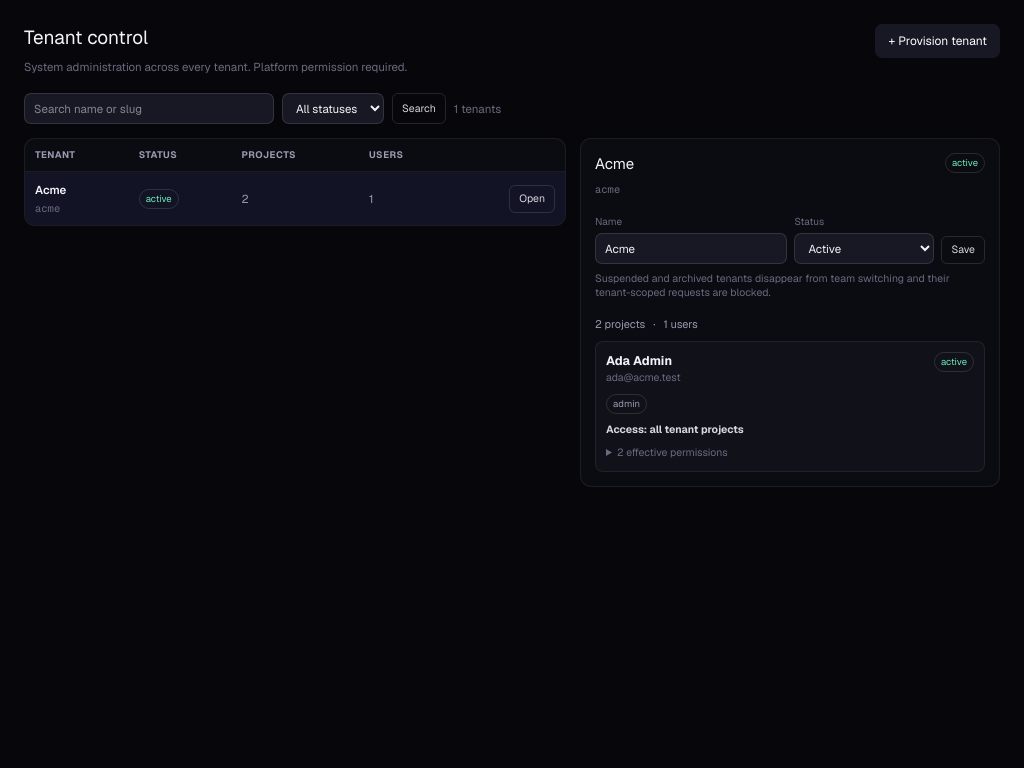
Test: TenantControlView › blocks submission when the tenant slug is already registered
This screenshot has width=1024, height=768.
Expected: the row with test id "tenant-control-row-acme" is shown, x1=25 y1=172 x2=565 y2=225
Click the button with test id "tenant-control-open-provision". click: (938, 41)
box: x1=876 y1=24 x2=1000 y2=58
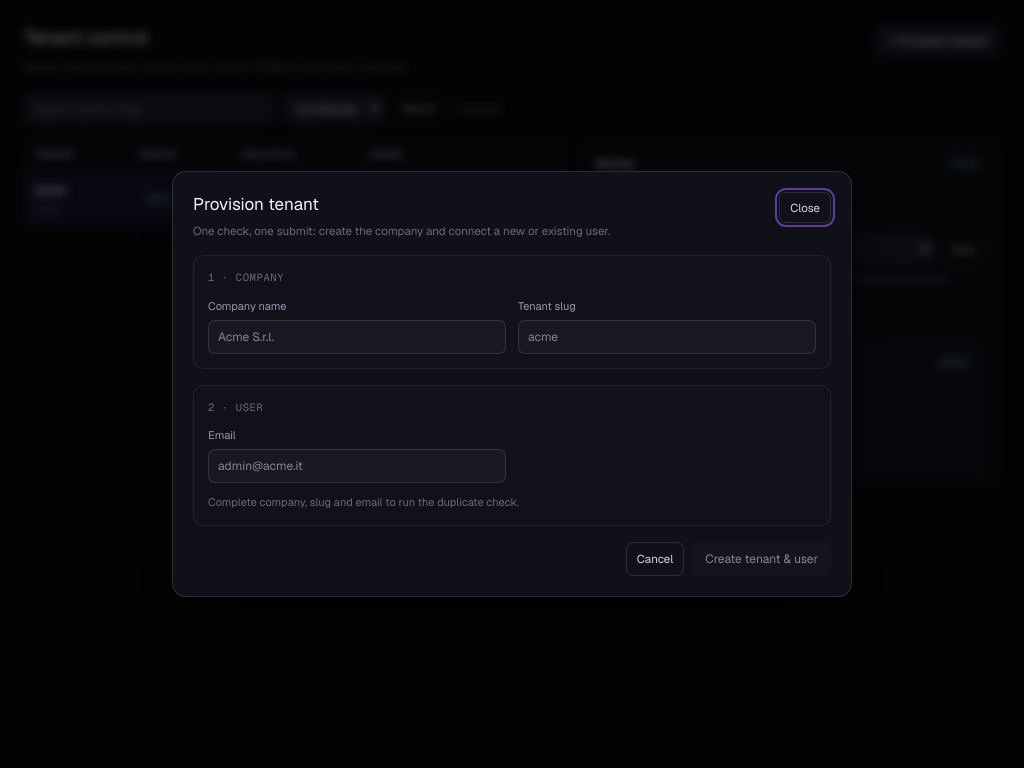
Type "Acme" into the field with test id "tenant-control-provision-tenant-name". click: (357, 337)
box: x1=208 y1=320 x2=506 y2=354
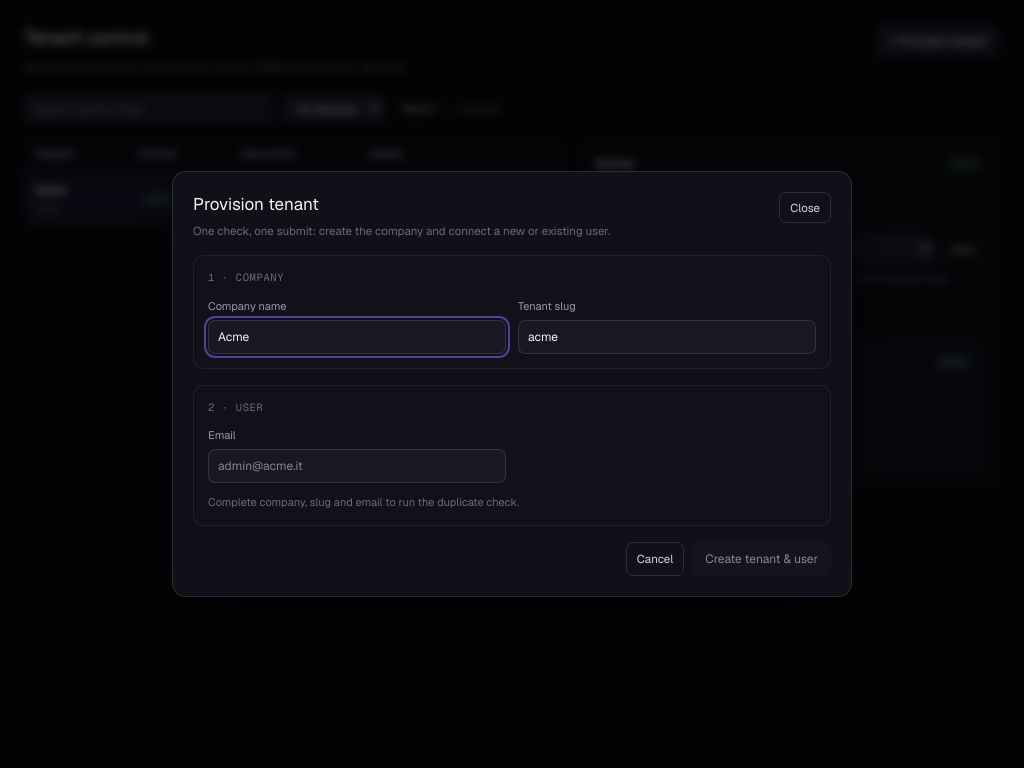
Type "new@acme.test" into the field with test id "tenant-control-provision-user-email". click: (357, 466)
box: x1=208 y1=449 x2=506 y2=483
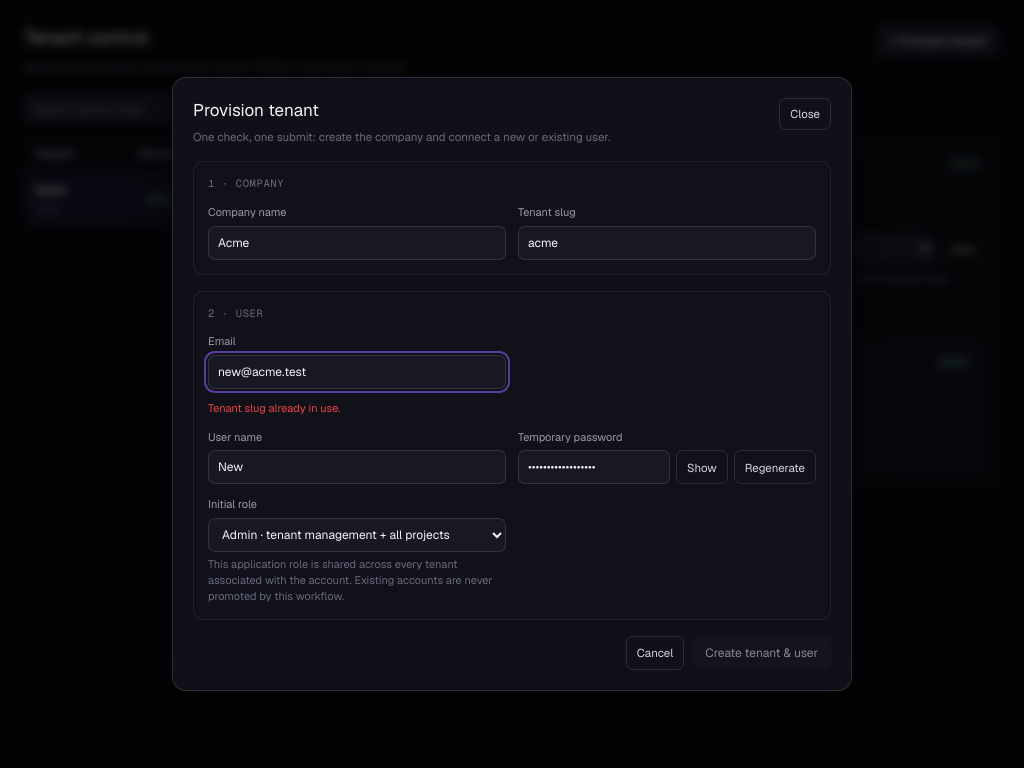
Result: the button with test id "tenant-control-provision-submit" is disabled at x1=692 y1=636 x2=831 y2=670
Result: the message "Tenant slug already in use." is shown at x1=208 y1=401 x2=340 y2=415
